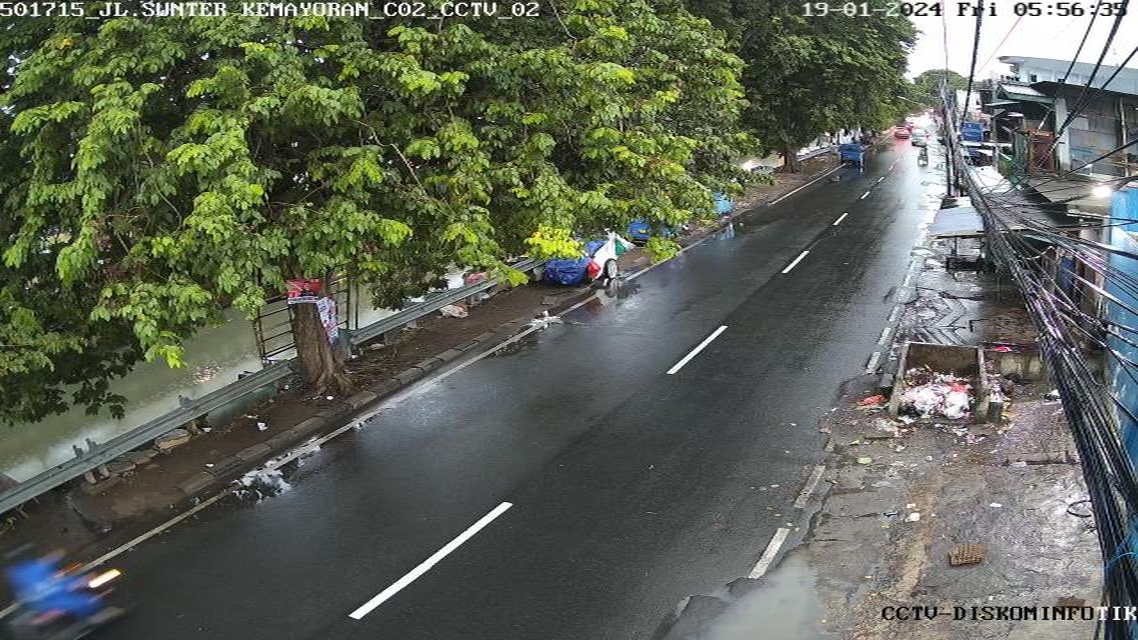Gerobak: (546, 235, 635, 285)
